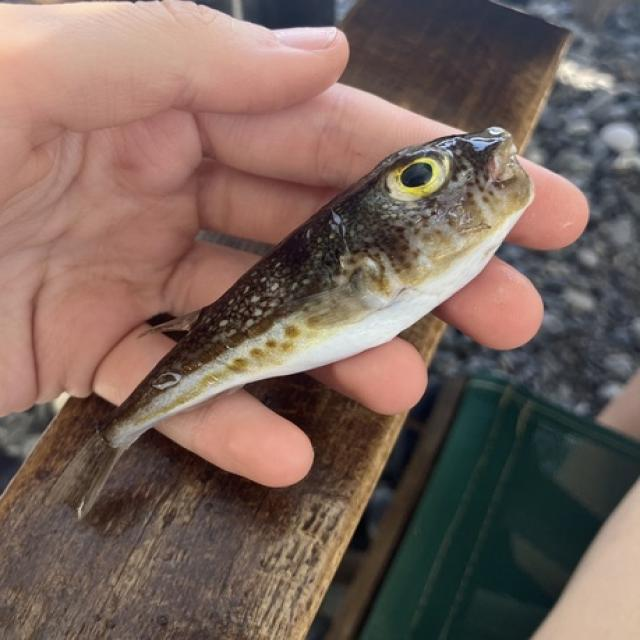Balik: (55, 127, 534, 517)
